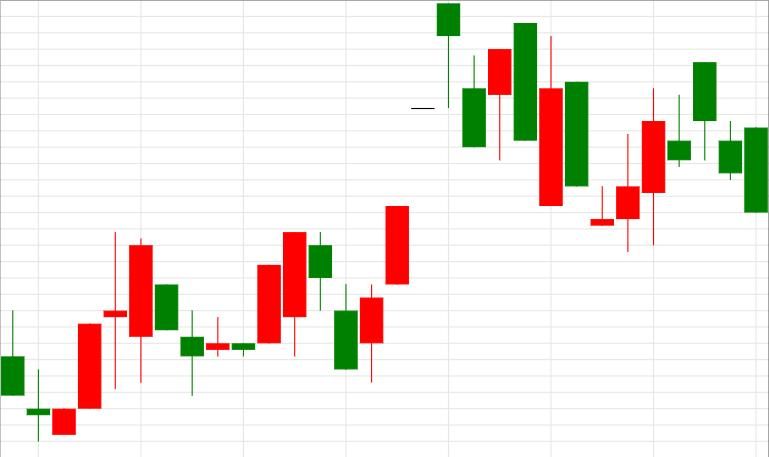hanging_man_fall: (334, 3, 460, 384)
